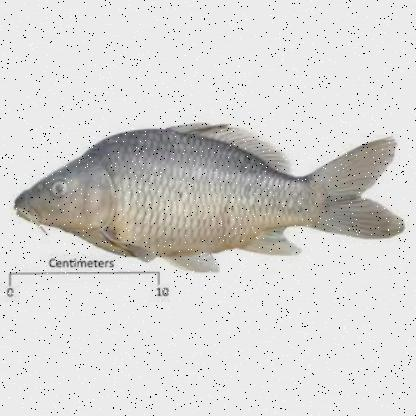ikan-mas: (15, 123, 405, 265)
